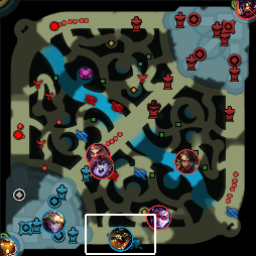bard: (1, 235, 17, 255)
draven: (85, 142, 110, 167)
ezreal: (40, 209, 65, 234)
lulu: (90, 154, 113, 179)
renekton: (107, 226, 133, 251), (174, 148, 199, 174)
vayne: (146, 204, 171, 230)
viktor: (234, 1, 256, 19)
